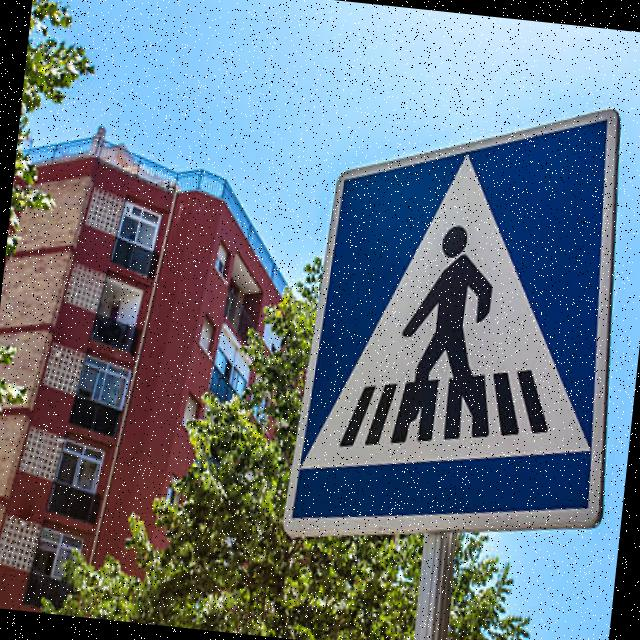crosswalk: (275, 76, 640, 587)
